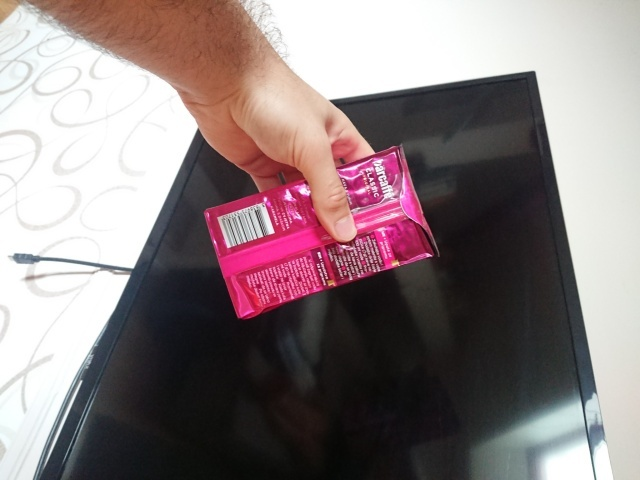Barcaffe Classic Original 225g: (201, 140, 442, 324)
